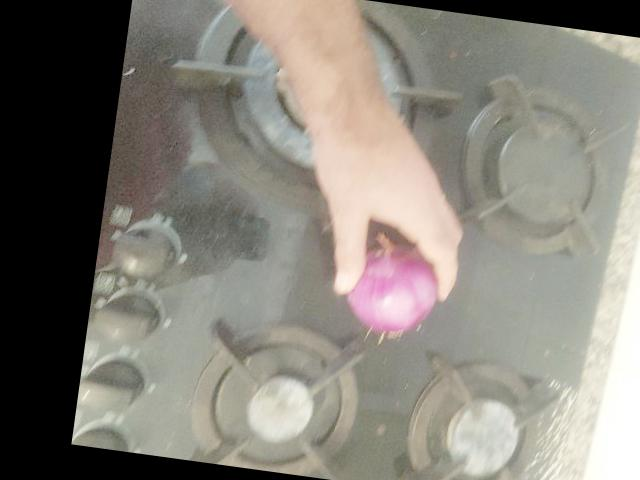onion: (344, 250, 437, 327)
